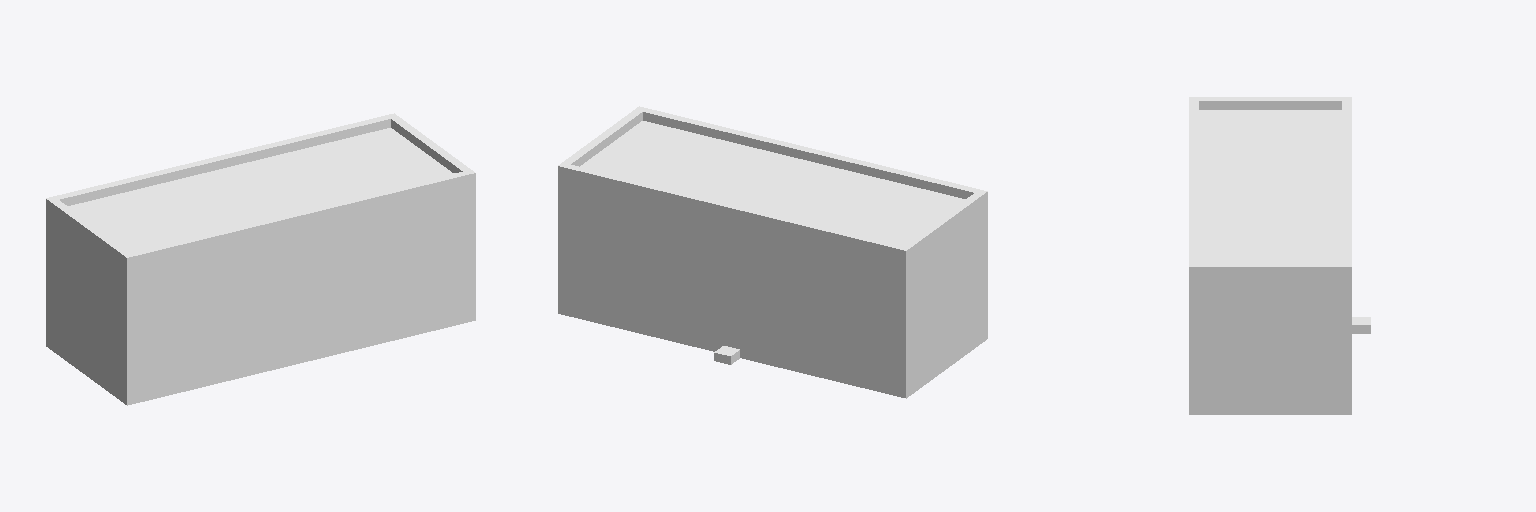
File: apartement-building.obj
3 views of the same model, side by side, from view 1: azimuth 30°, elevation 25°; view 2: azimuth 150°, elevation 25°; view 3: azimuth 270°, elevation 25° (orthographic).
Parts seen in each view (by area): view 1: apartement-building; view 2: apartement-building; view 3: apartement-building.
Part boxes in pixels (bbox=[...]): apartement-building: bbox=[46, 113, 475, 405]; apartement-building: bbox=[558, 106, 987, 398]; apartement-building: bbox=[1189, 97, 1370, 414].
Bounding box in the file's own units: 42 × 17 × 19.